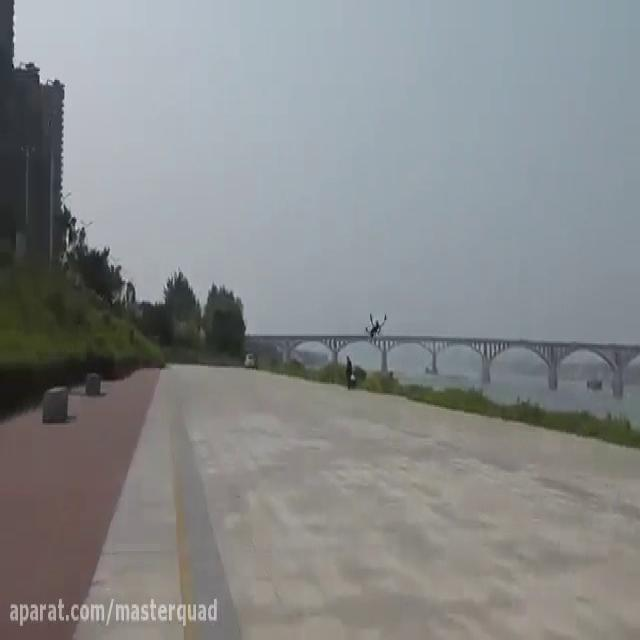drone: (362, 308, 390, 337)
